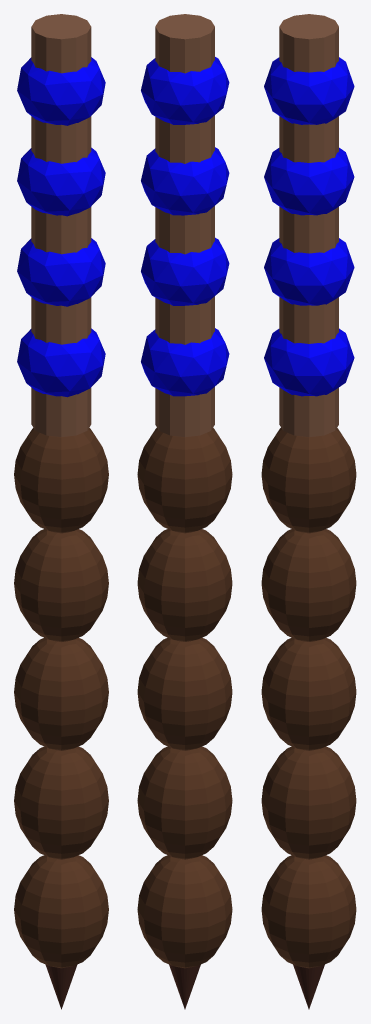
Rendered from Wand 232.glb.
3 views of the same model, side by side, from view 1: azimuth 30°, elevation 25°; view 2: azimuth 210°, elevation 25°; view 3: azimuth 270°, elevation 25° (orthographic).
Visible parts, largest first — view 1: GeneratedWand; view 2: GeneratedWand; view 3: GeneratedWand.
Part boxes in pixels (bbox=[...]): GeneratedWand: bbox=[14, 14, 108, 1009]; GeneratedWand: bbox=[137, 14, 232, 1009]; GeneratedWand: bbox=[261, 14, 356, 1009].
Bounding box in the file's own units: 0.0447 × 0.5128 × 0.0449.
